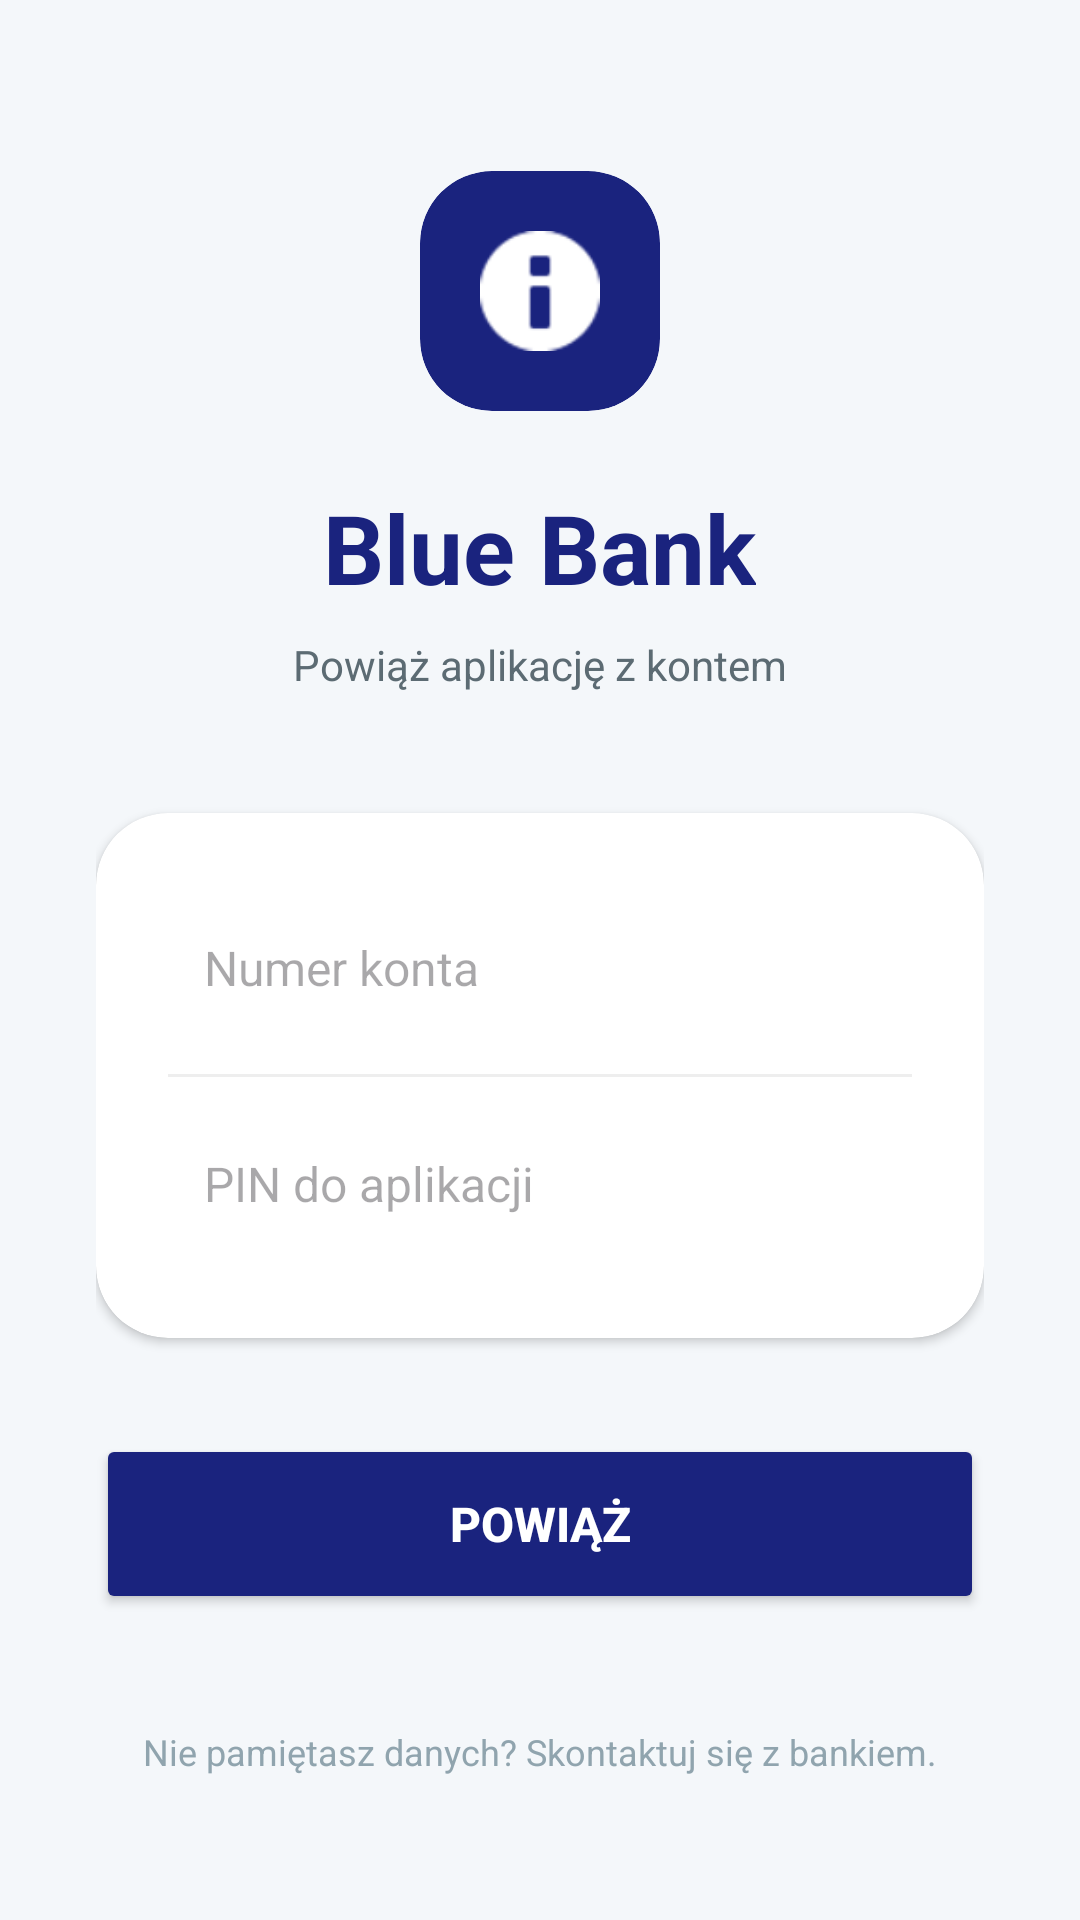

Icons on this 1080×1920 Android screen, each with the point to tap as (x,y):
info: (540,291)
